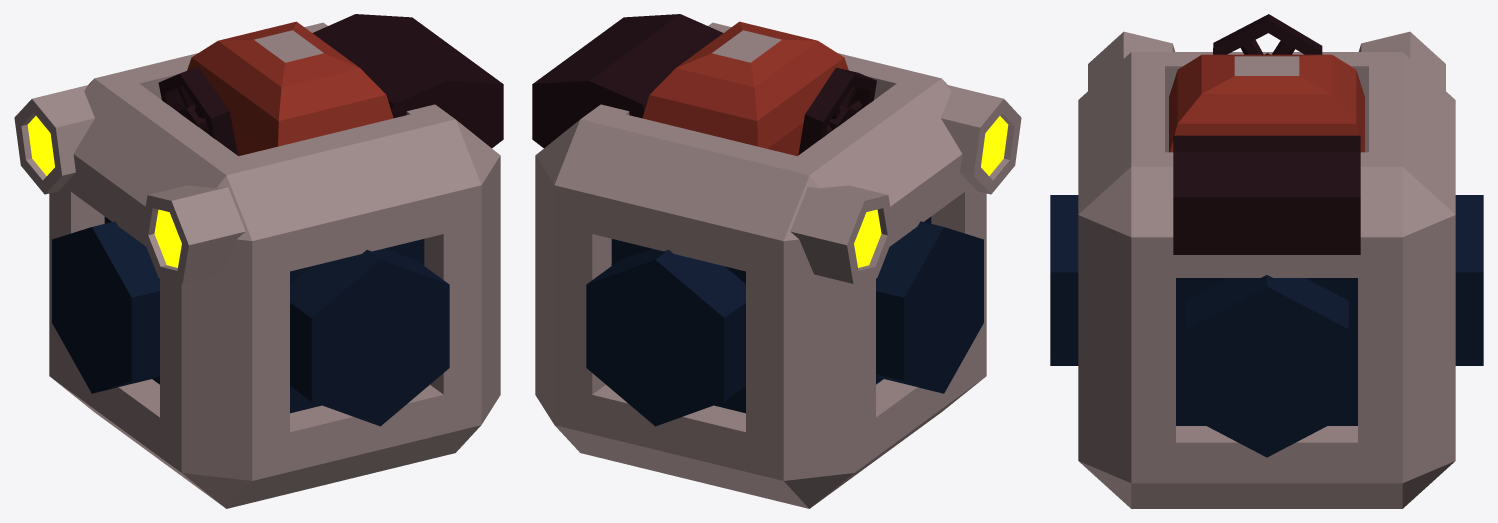
The model's file is Core.gltf.
3 renders of one model, left to right at view 1: azimuth 30°, elevation 25°; view 2: azimuth 150°, elevation 25°; view 3: azimuth 270°, elevation 25°, orthographic. The views are drawn at different scales.
Parts seen in each view (by area): view 1: Cube.002; view 2: Cube.002; view 3: Cube.002.
Boxes of the visible parts, x1,y1,x2,y2 form: Cube.002: (14, 14, 503, 508); Cube.002: (532, 14, 1021, 508); Cube.002: (1050, 14, 1483, 508).
Bounding box in the file's own units: 1 × 1 × 1.
